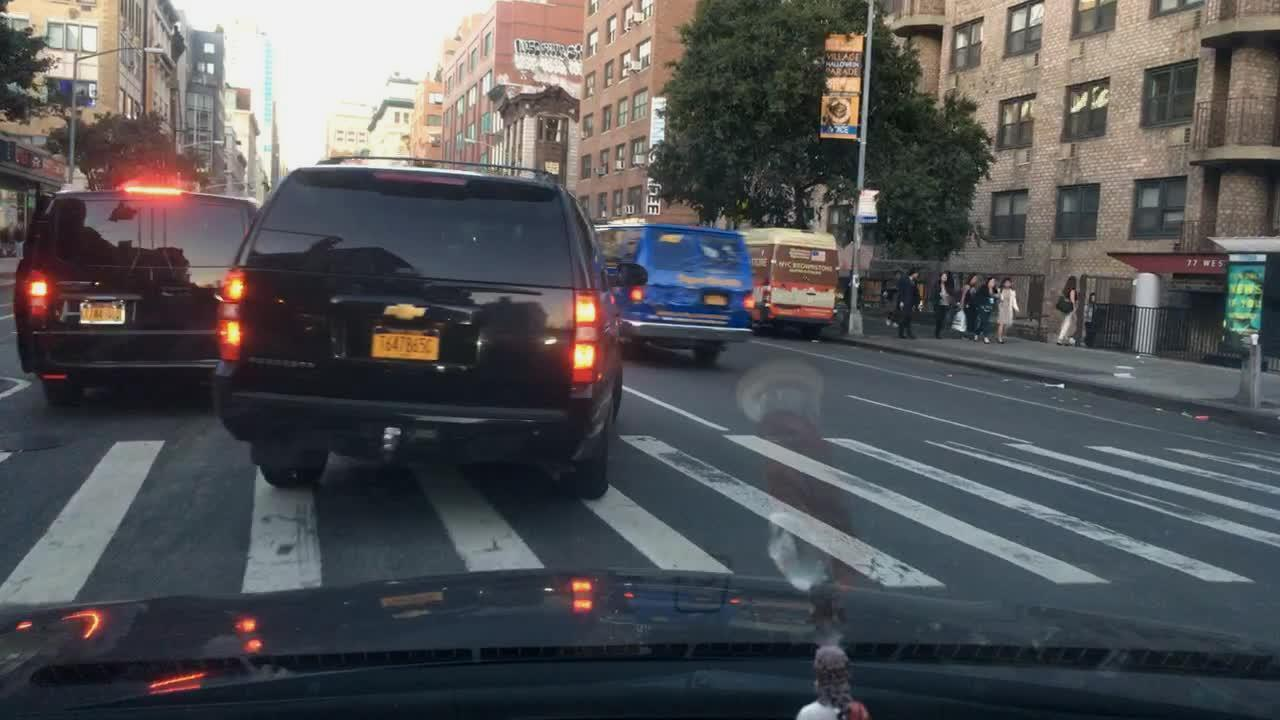chevrolet: (369, 296, 441, 326)
